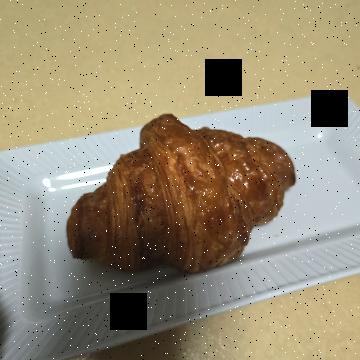croissant: (103, 64, 288, 308)
